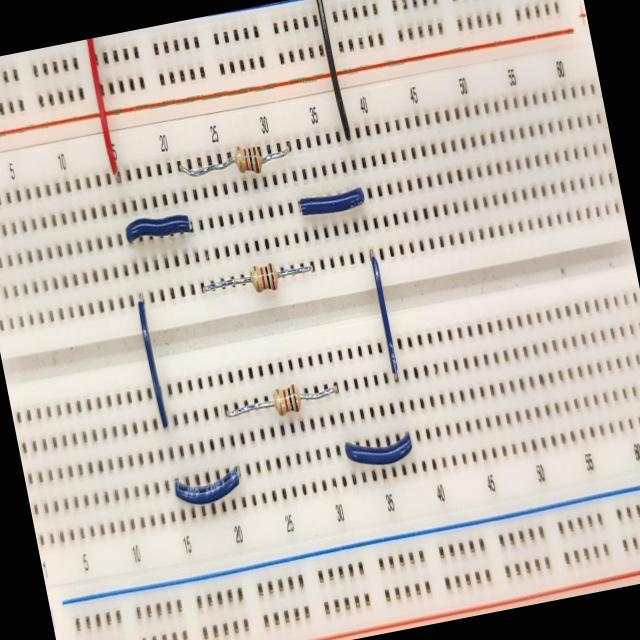Resistor: (273, 383, 302, 416), (250, 263, 281, 292), (234, 146, 262, 173)
black: (287, 387, 294, 411), (265, 266, 271, 290), (248, 148, 254, 171)
brown: (291, 383, 299, 412), (269, 262, 276, 290), (253, 146, 260, 173)
gold: (253, 266, 261, 292), (276, 388, 283, 415), (237, 146, 244, 173)
red: (283, 389, 289, 412), (260, 267, 266, 290), (244, 149, 249, 170)
